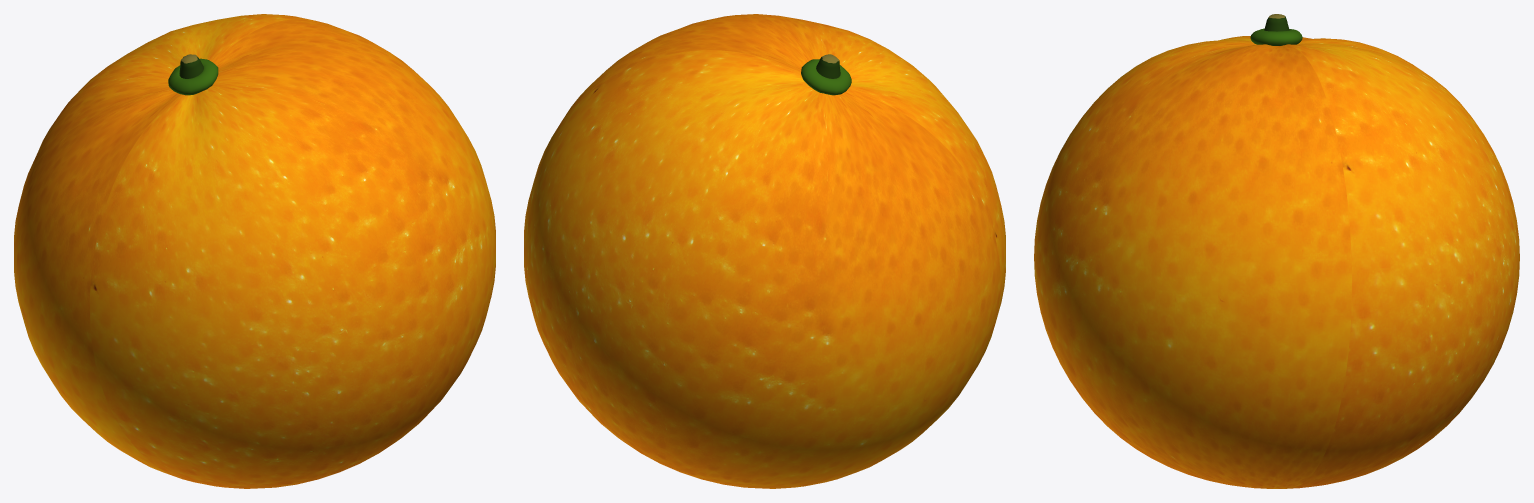
The model's file is orange.obj.
The picture shows the model from 3 angles, left to right: view 1: azimuth 30°, elevation 25°; view 2: azimuth 150°, elevation 25°; view 3: azimuth 270°, elevation 25°; orthographic projection.
Visible parts, largest first — view 1: pSphere7_Untitled, pTorus1_Untitled.001; view 2: pSphere7_Untitled, pTorus1_Untitled.001; view 3: pSphere7_Untitled, pTorus1_Untitled.001.
Part boxes in pixels (box(x1,y1,x2,y2)): pSphere7_Untitled: box(14, 14, 495, 488); pTorus1_Untitled.001: box(168, 58, 218, 95); pSphere7_Untitled: box(524, 14, 1005, 488); pTorus1_Untitled.001: box(801, 59, 851, 95); pSphere7_Untitled: box(1034, 36, 1519, 488); pTorus1_Untitled.001: box(1250, 28, 1302, 45).
Bounding box in the file's own units: 6.52 × 6.28 × 6.54.
4 materials, 1 textured.
